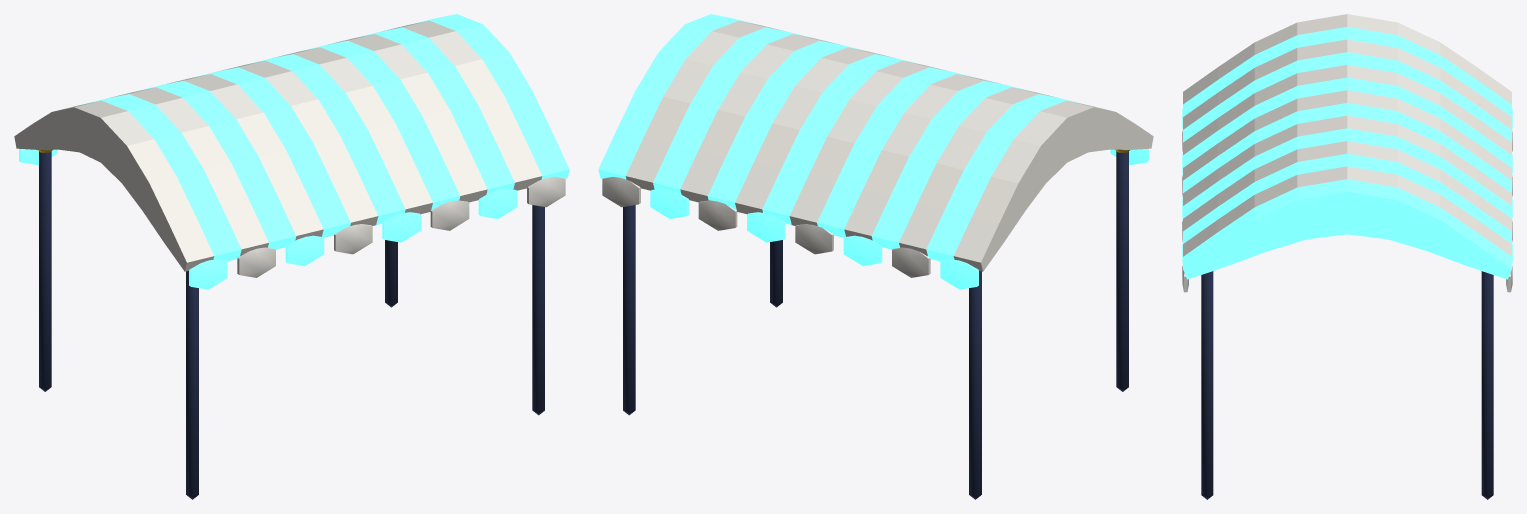
Rendered from W1_Awning.fbx.
3 renders of one model, left to right at view 1: azimuth 30°, elevation 25°; view 2: azimuth 150°, elevation 25°; view 3: azimuth 270°, elevation 25°, orthographic. The views are drawn at different scales.
Parts seen in each view (by area): view 1: W1_Awning; view 2: W1_Awning; view 3: W1_Awning.
Boxes of the visible parts, box(x1,y1,x2,y2) form: W1_Awning: box(14, 14, 569, 499); W1_Awning: box(598, 14, 1153, 499); W1_Awning: box(1182, 14, 1512, 499).
Size of the model in its own units: 4.2 by 3.49 by 3.3.
